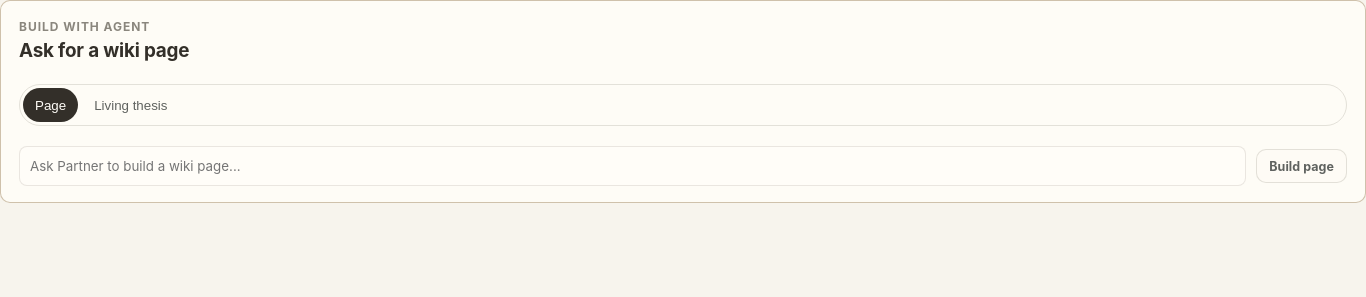
Test: WikiBuildPageComposer › declines before creating a dead Wiki when the Library has no direct subject evidence
Step 1. Type "Roman concrete" into the field named "Wiki page to build" → (633, 166), box [19, 146, 1246, 186]
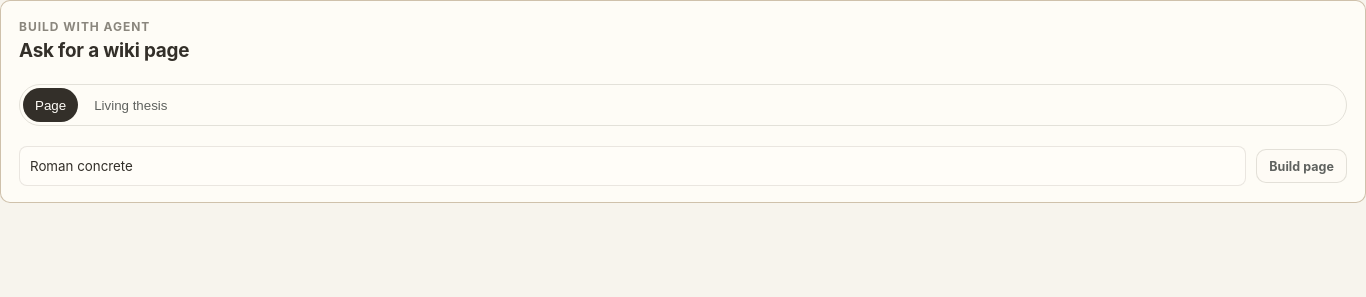
Step 2. Click the button "Build page" → (1302, 166), box [1256, 149, 1347, 183]
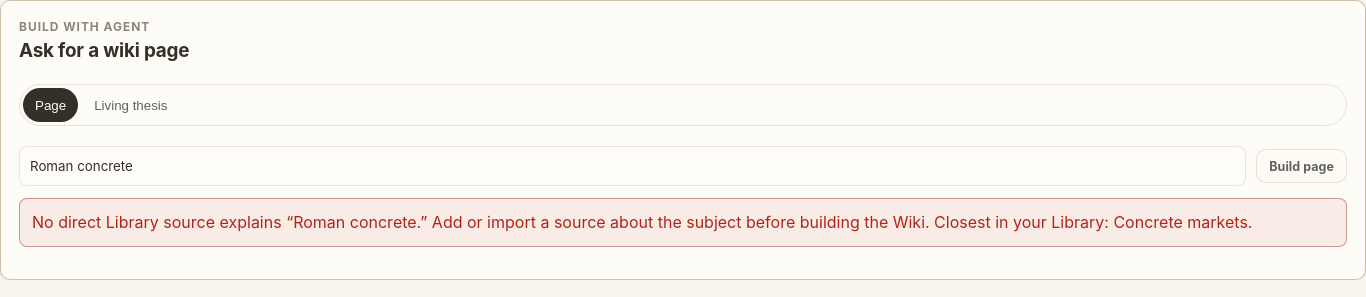
Now the message shows "No direct Library source explains", box [32, 212, 1252, 232]
Now the message shows "Closest in your Library: Concrete markets.", box [32, 212, 1252, 232]
